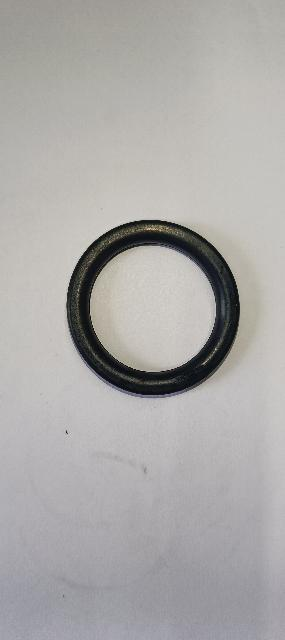scratch: (171, 357, 220, 388)
